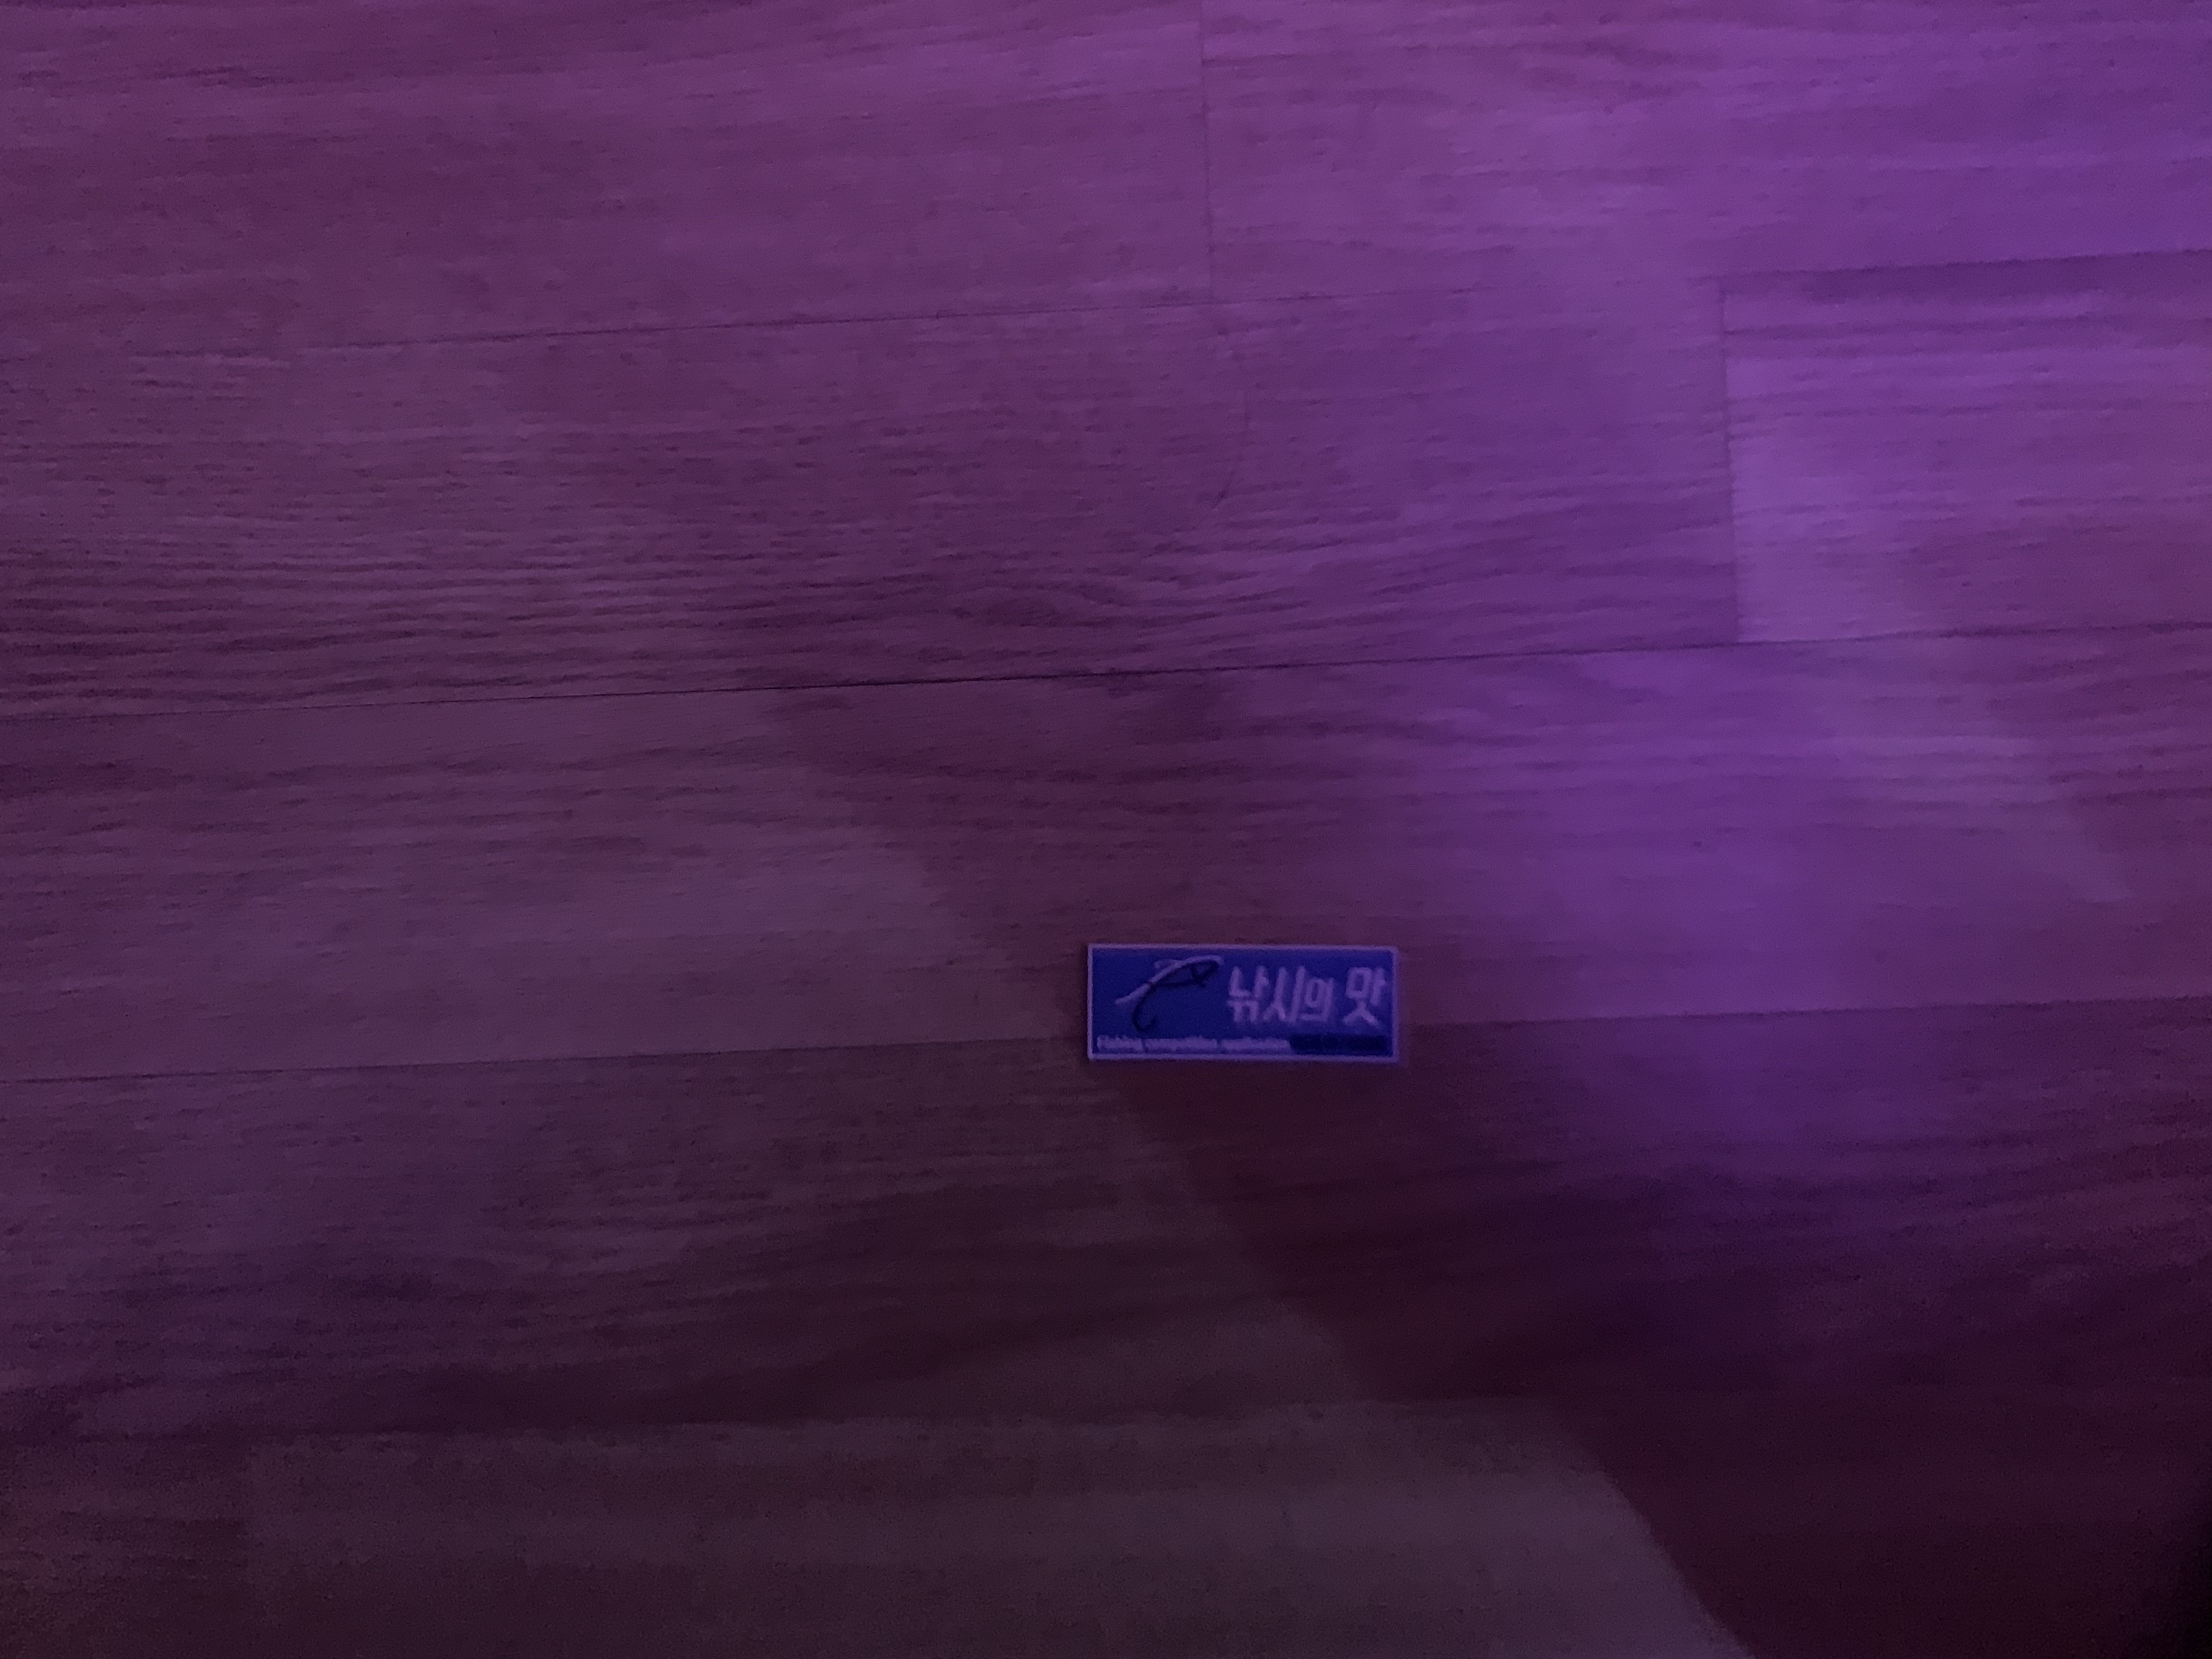tag: (1089, 943, 1400, 1065)
